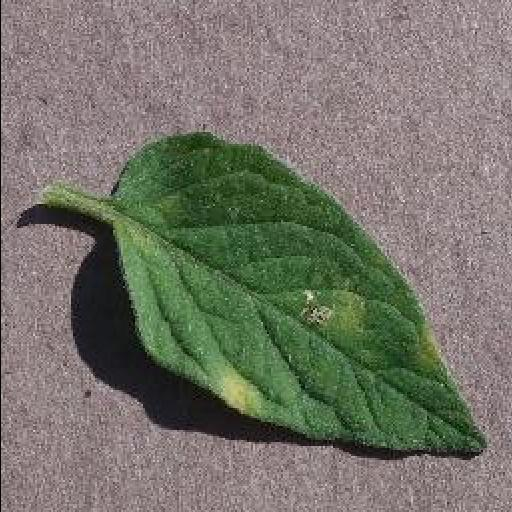disease_tomato: (114, 134, 490, 456)
